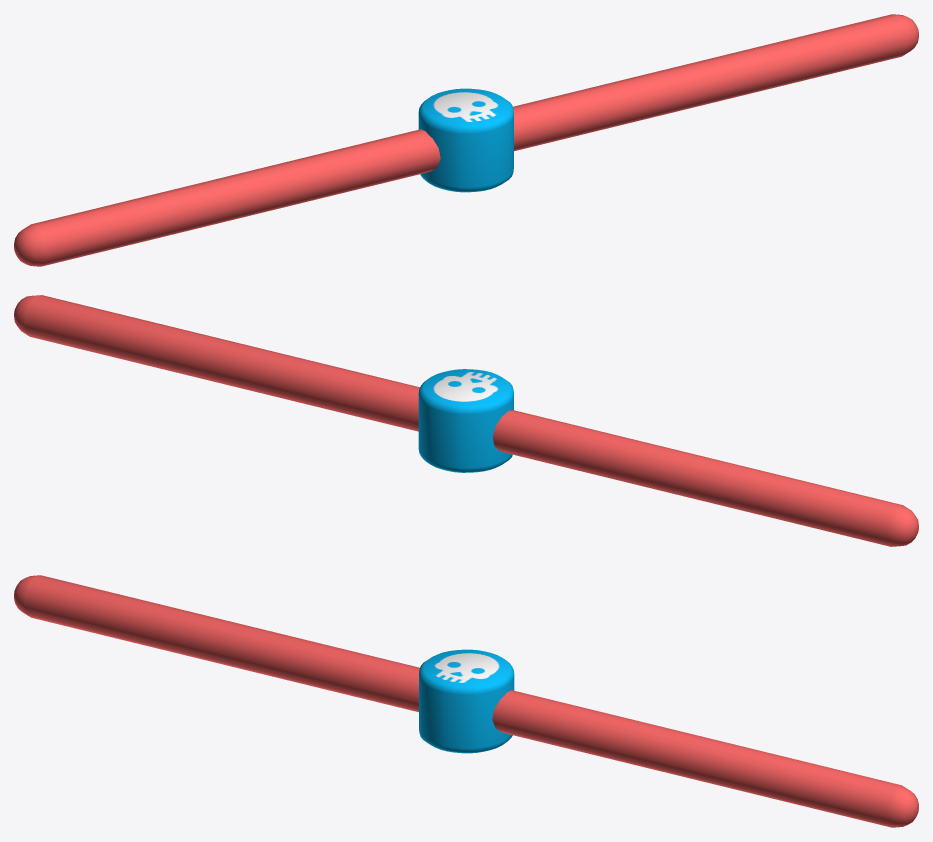
The model's file is stick_2_2.FBX.
The picture shows the model from 3 angles, top to bottom: view 1: azimuth 30°, elevation 25°; view 2: azimuth 150°, elevation 25°; view 3: azimuth 330°, elevation 25°; orthographic projection.
Parts seen in each view (by area): view 1: stick_2_2; view 2: stick_2_2; view 3: stick_2_2.
Part boxes in pixels (x1,y1,x2,y2): stick_2_2: [14, 14, 918, 266]; stick_2_2: [14, 295, 918, 546]; stick_2_2: [14, 575, 918, 827].
Size of the model in its own units: 16.21 by 1.16 by 1.49.
Materials: 1 (1 with a texture image).
